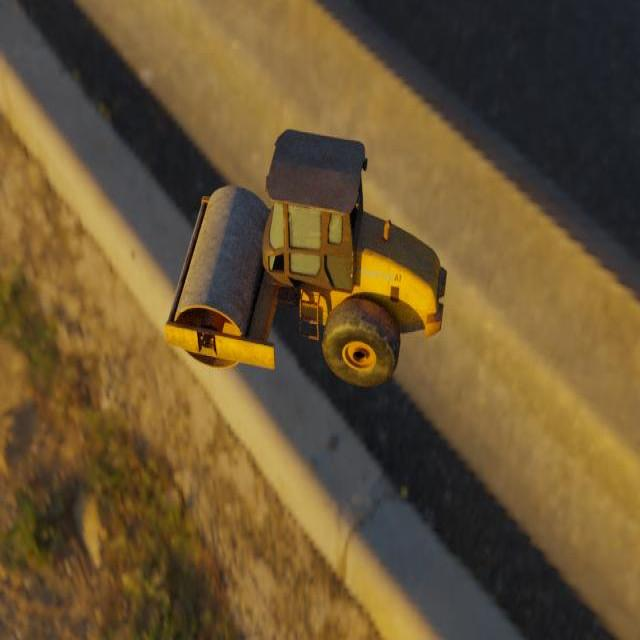Roller: (164, 128, 447, 387)
